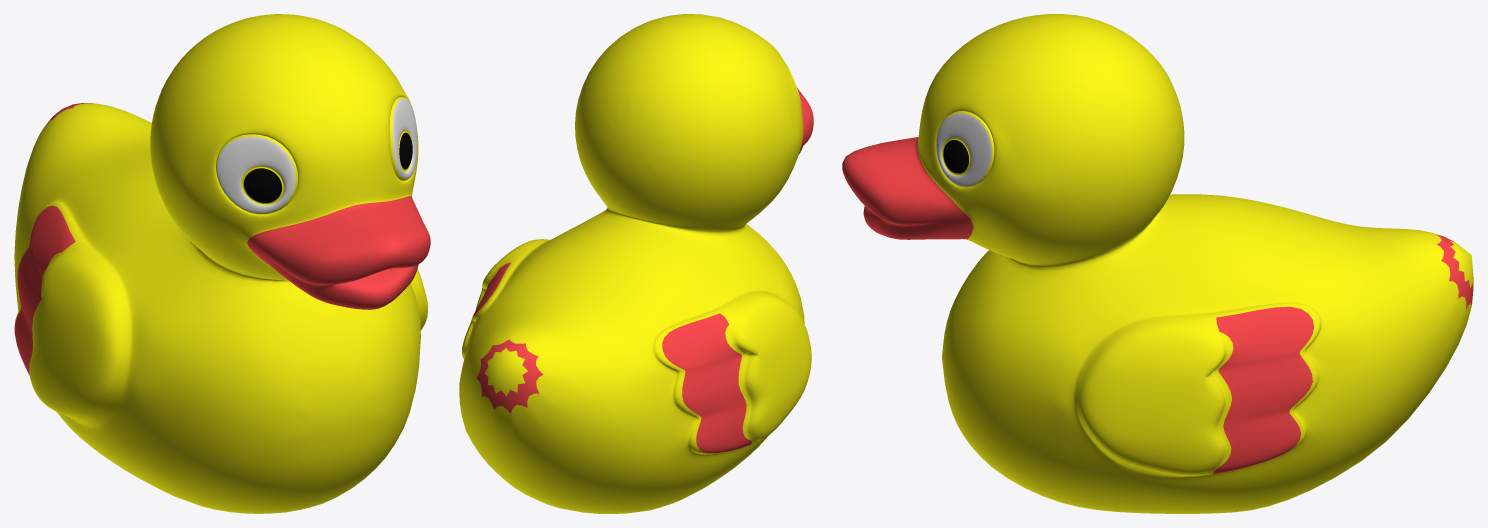
Rendered from BubbleIsland_duck_0010 (1).fbx.
3 renders of one model, left to right at view 1: azimuth 30°, elevation 25°; view 2: azimuth 150°, elevation 25°; view 3: azimuth 270°, elevation 25°, orthographic. The views are drawn at different scales.
Parts seen in each view (by area): view 1: Duck; view 2: Duck; view 3: Duck.
Part boxes in pixels (x1,y1,x2,y2): Duck: (14,14,430,513); Duck: (459,14,813,513); Duck: (842,14,1473,513).
Size of the model in its own units: 301 by 405 by 498.
